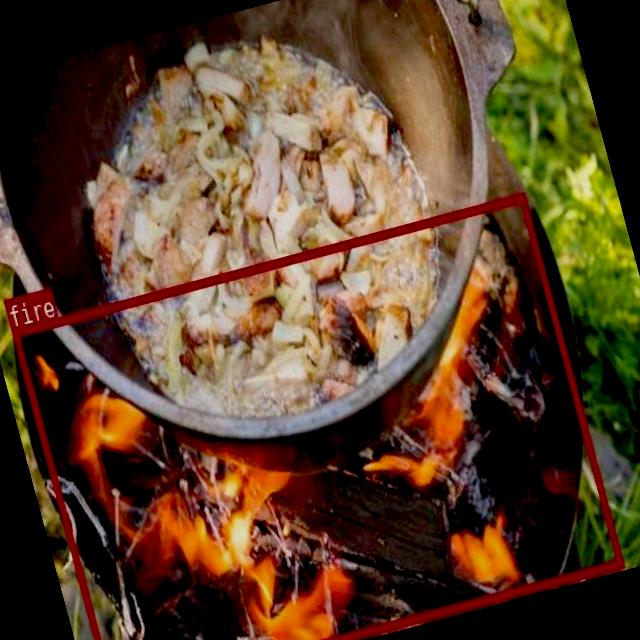fire: (11, 191, 623, 640)
